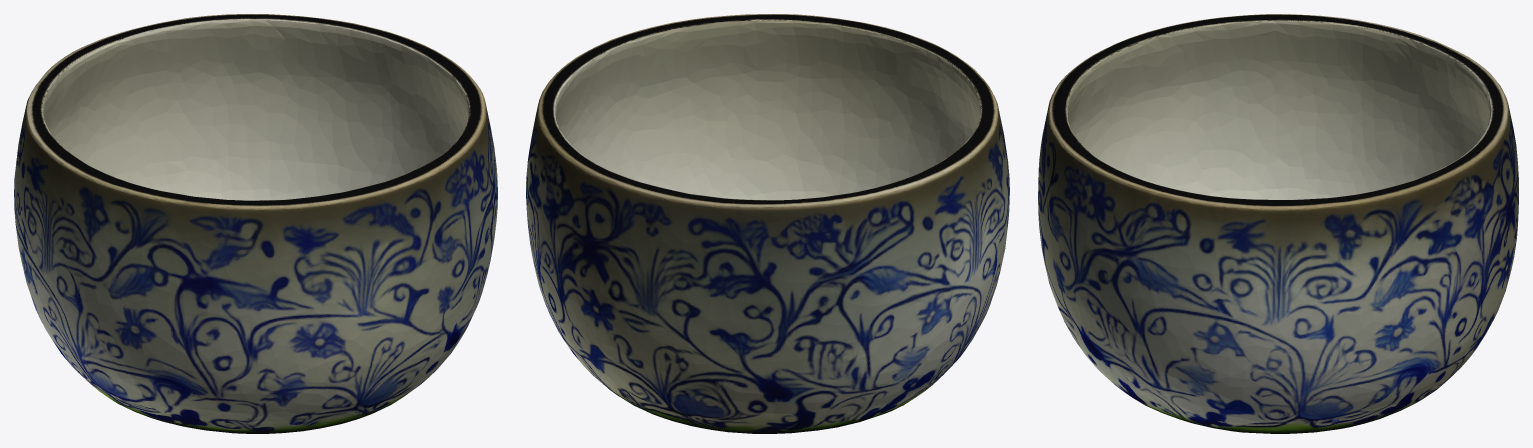
Rendered from porcelain-filigree-japanese.jpeg.glb.
3 views of the same model, side by side, from view 1: azimuth 30°, elevation 25°; view 2: azimuth 150°, elevation 25°; view 3: azimuth 270°, elevation 25° (orthographic).
Parts seen in each view (by area): view 1: world; view 2: world; view 3: world.
Boxes of the visible parts, box(x1,y1,x2,y2) form: world: box(14, 14, 497, 433); world: box(526, 14, 1009, 433); world: box(1038, 14, 1518, 433).
Bounding box in the file's own units: 0.9921 × 0.6079 × 0.9925.
Materials: 1 (1 with a texture image).
